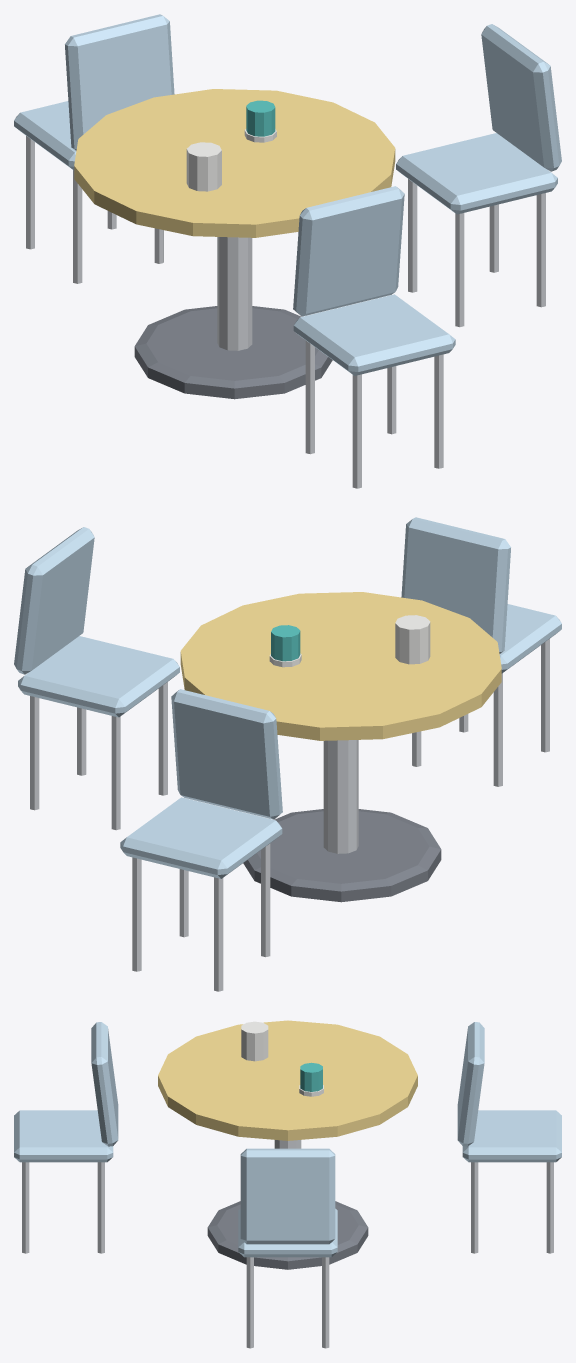
Rendered from medical-23643.glb.
3 views of the same model, one above another, from view 1: azimuth 30°, elevation 25°; view 2: azimuth 150°, elevation 25°; view 3: azimuth 270°, elevation 25° (orthographic). The views are drawn at different scales.
Parts seen in each view (by area): view 1: break-table-with-chairs; view 2: break-table-with-chairs; view 3: break-table-with-chairs.
Boxes of the visible parts, left/top/right/bottom form: break-table-with-chairs: left=14, top=14, right=561, bottom=488; break-table-with-chairs: left=14, top=517, right=561, bottom=991; break-table-with-chairs: left=14, top=1020, right=561, bottom=1348.
Bounding box in the file's own units: 1.73 × 0.9183 × 2.32.
